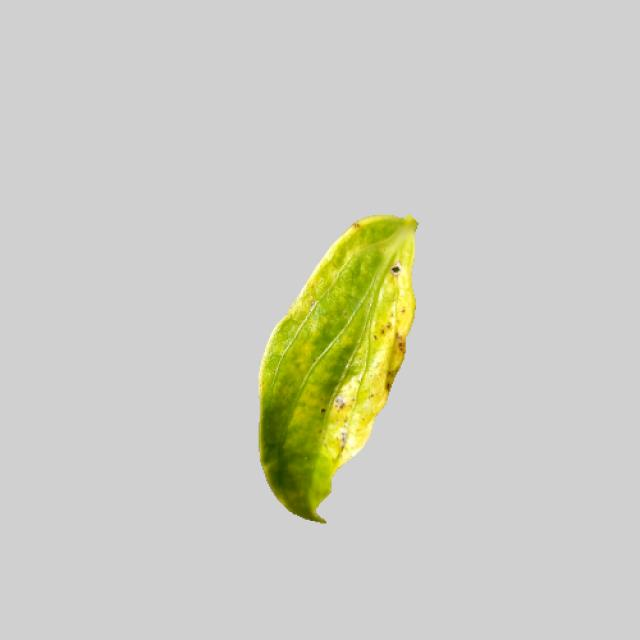yellow-mottle-virus: (245, 210, 422, 520)
